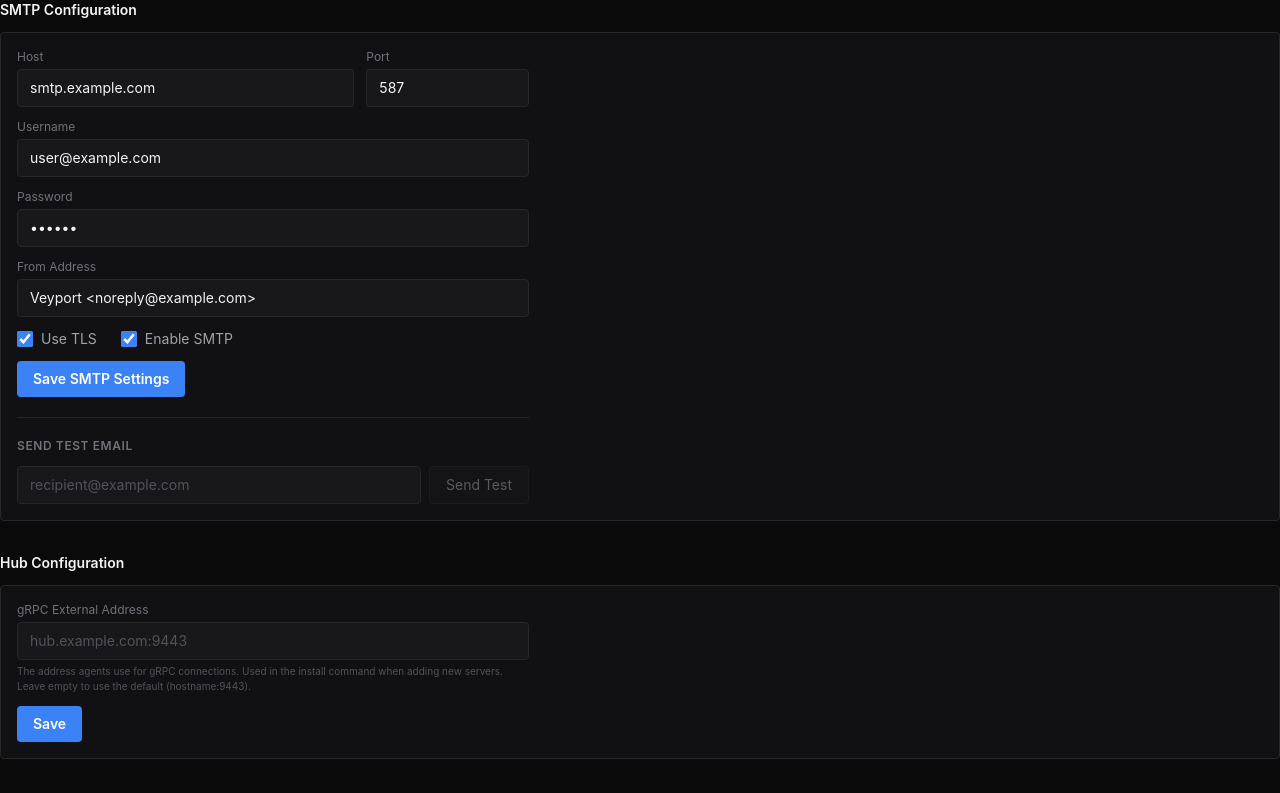
Test case: NotificationsTab › shows test email error on failure
Type "test@example.com" into the field with placeholder "recipient@example.com" at point(219, 485), box [17,466,421,504]
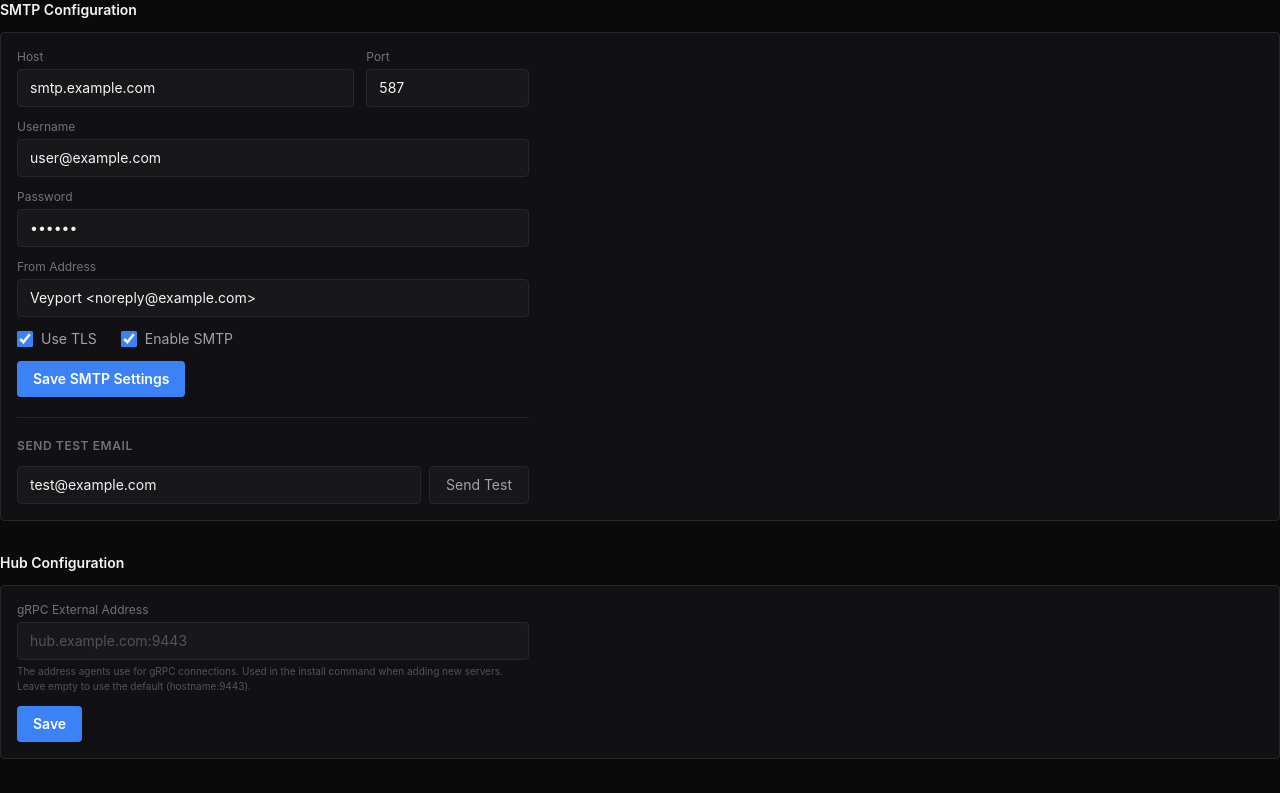
Click the button "Send Test" at point(479, 485), box [429,466,529,504]
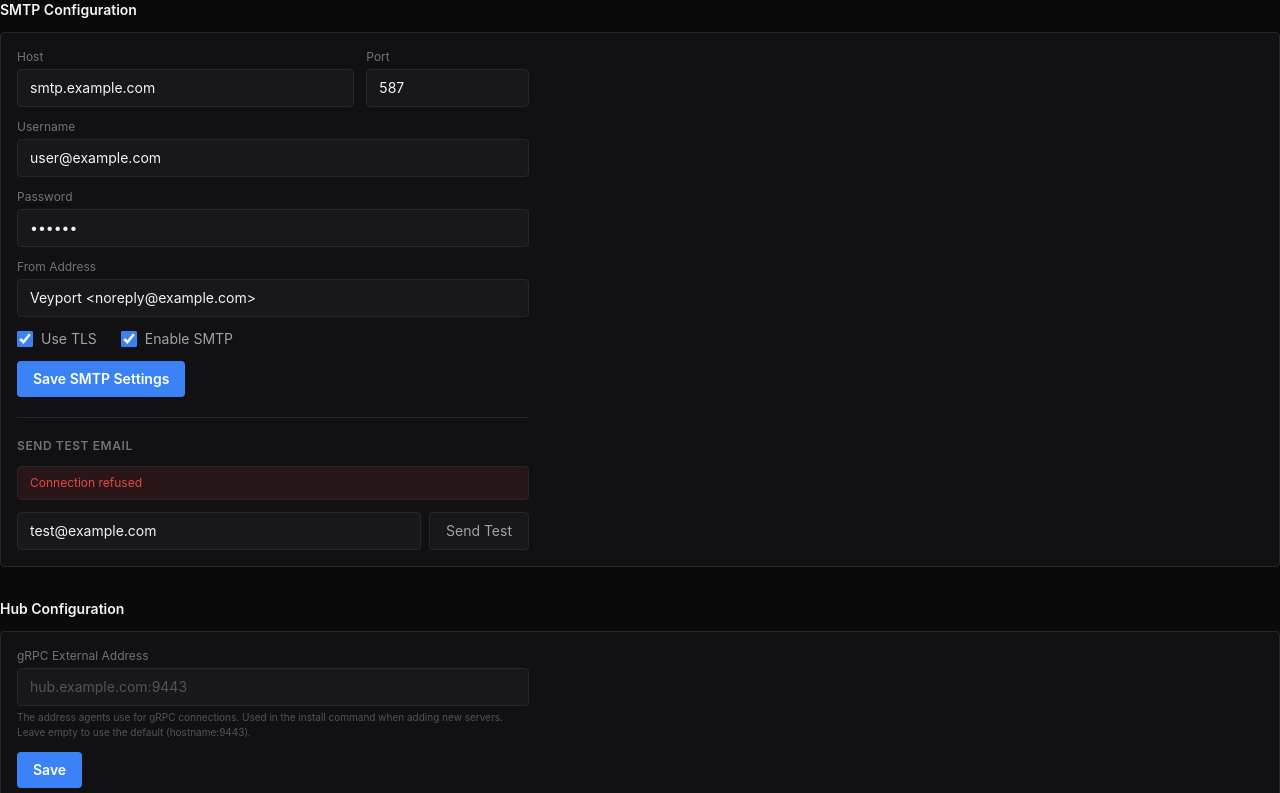
Now the text "Connection refused" is shown, box [17,466,529,500]
